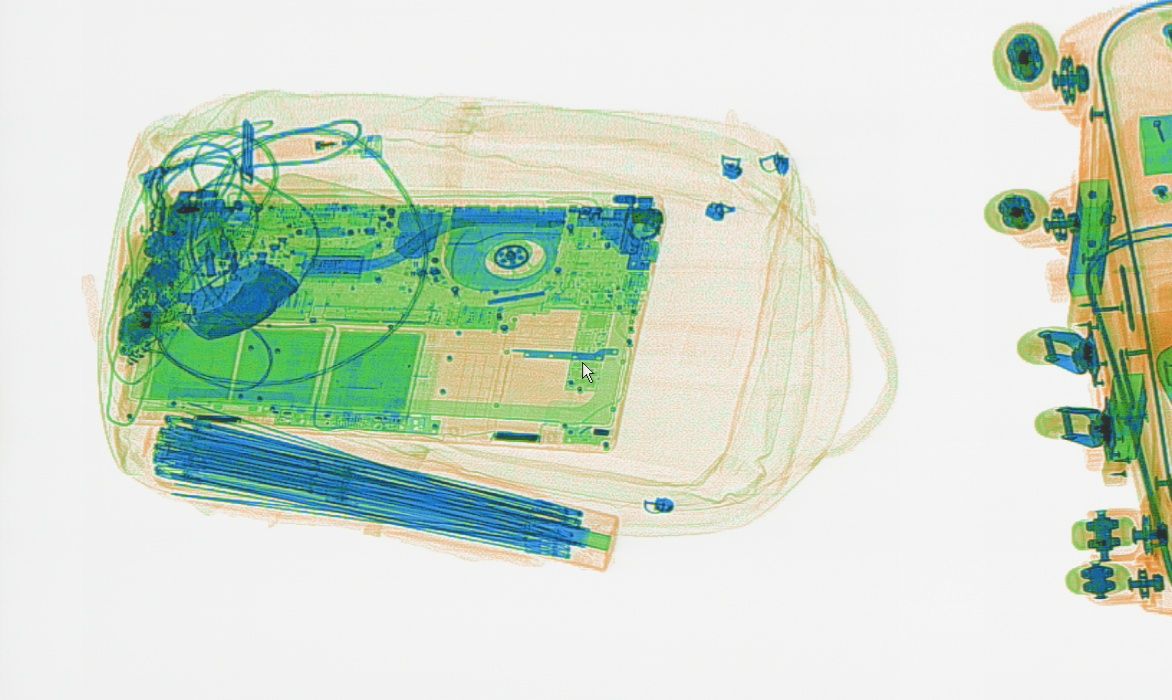knife: (177, 256, 298, 341)
lighter: (252, 122, 383, 166)
